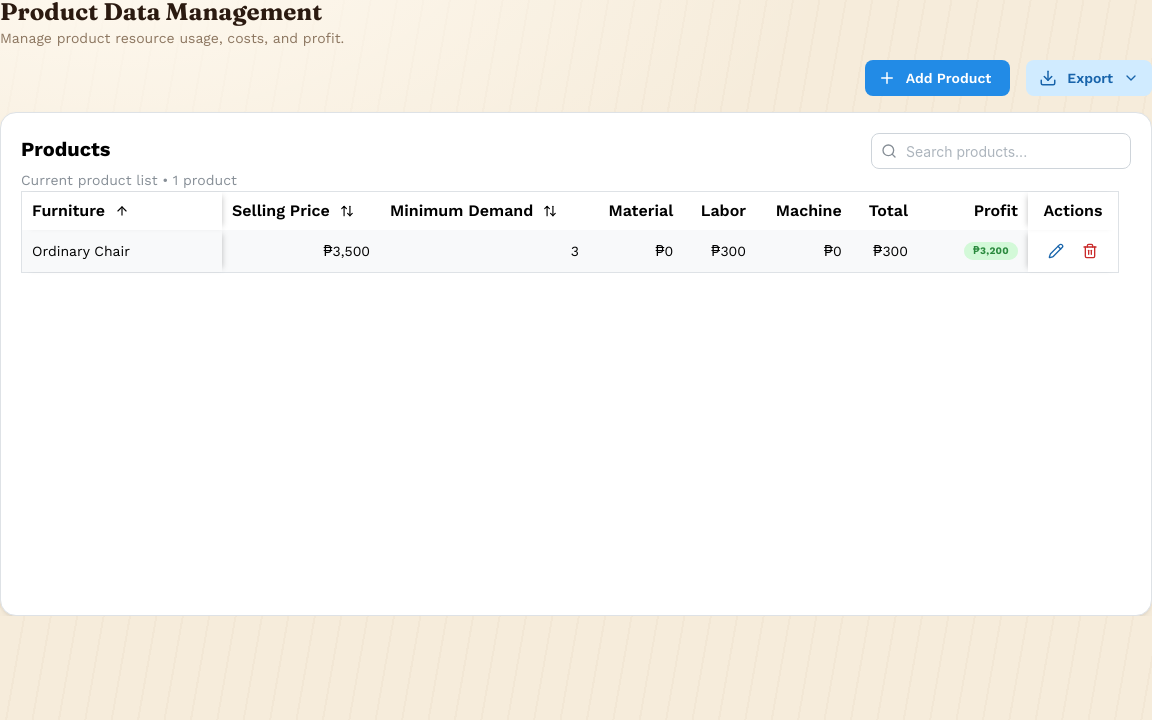
Scenario: ProductDataPage Minimum Demand editing › saves an edited minimum demand and refreshes the table
Expected: the text "Ordinary Chair" is shown, [22,230,222,272]
Click the 6th button at (1056, 251), box [1042,237,1070,265]
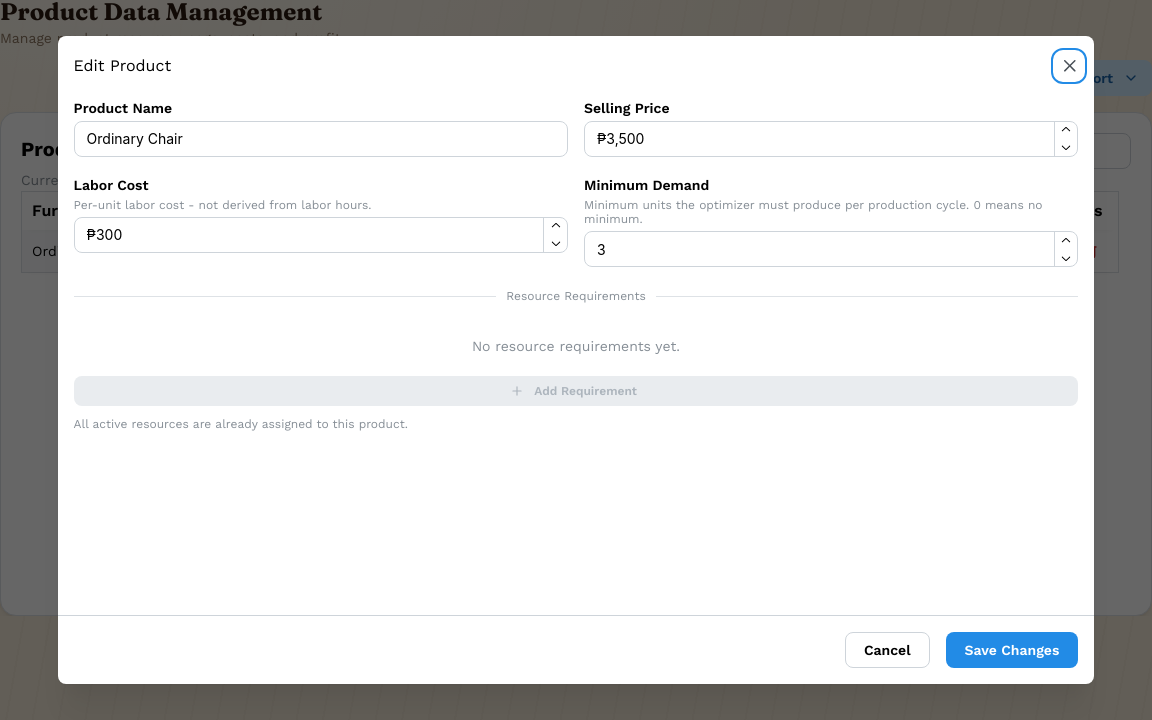
Result: the field labelled "Minimum Demand" holds "3"
Replace the text in the field labelled "Minimum Demand" with "7" at (831, 249), box [584,231,1078,267]
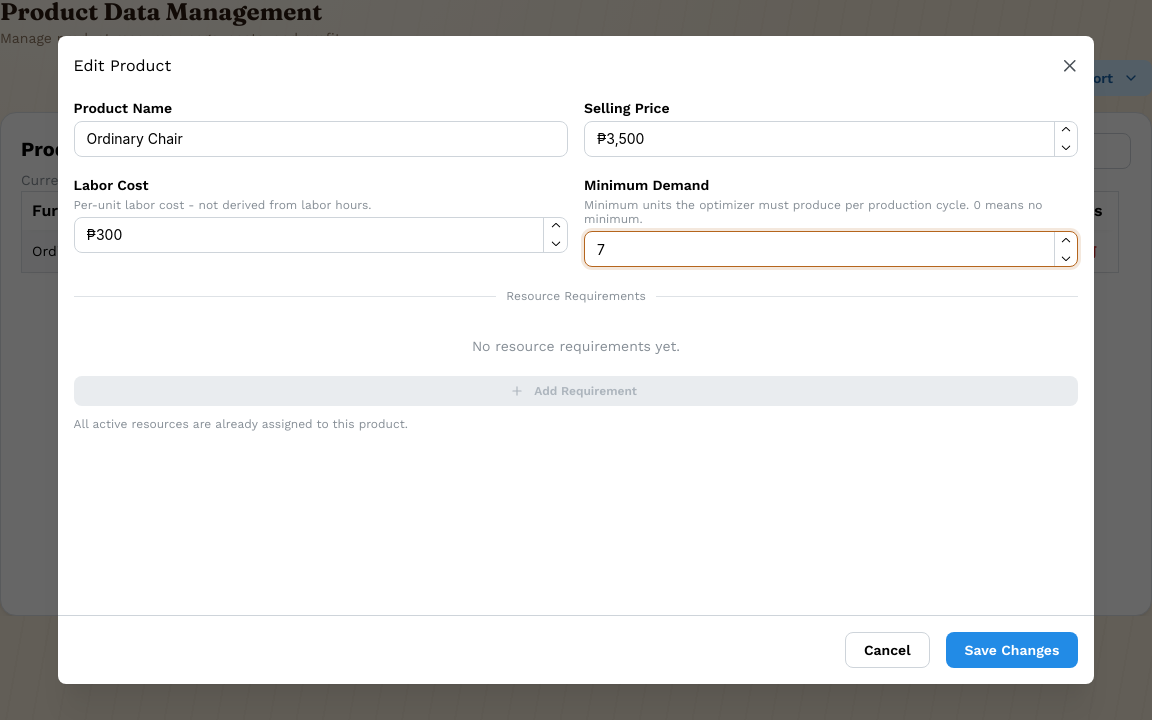
Click the button "Save Changes" at (1012, 650), box [946,632,1078,668]
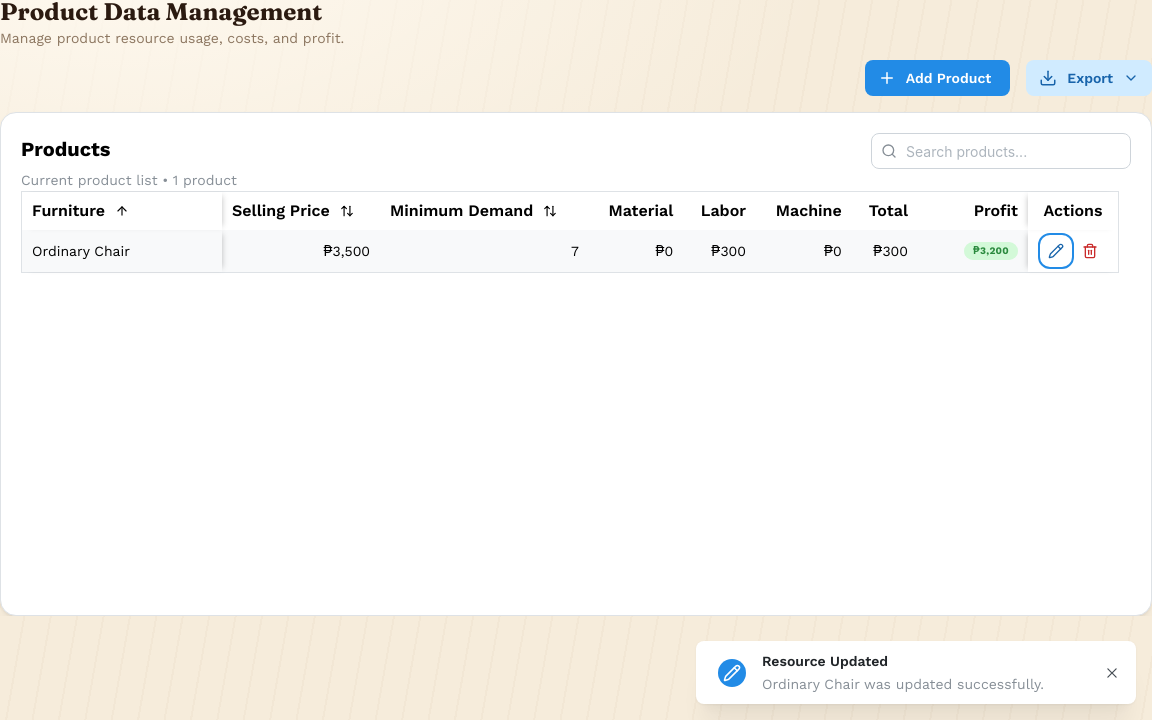
Result: the text "7" is shown at [571,242,579,258]
